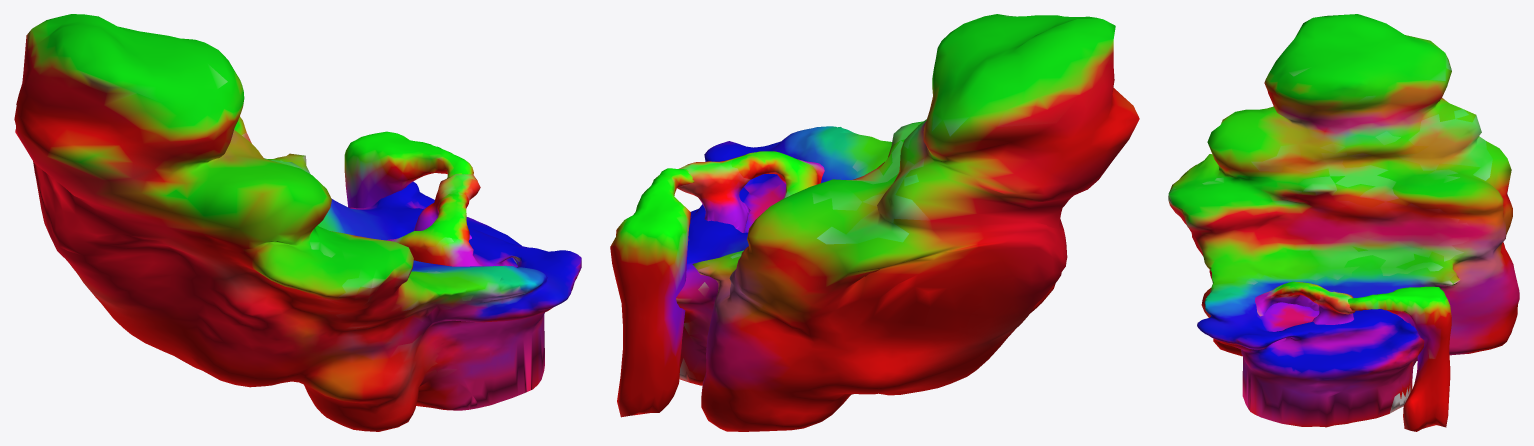
File: fblmeshes.fbx
3 renders of one model, left to right at view 1: azimuth 30°, elevation 25°; view 2: azimuth 150°, elevation 25°; view 3: azimuth 270°, elevation 25°, orthographic. The views are drawn at different scales.
Parts seen in each view (by area): view 1: Cube, Cube.001, Cube.002; view 2: Cube, Cube.001, Cube.002; view 3: Cube, Cube.001, Cube.002.
Boxes of the visible parts, box(x1,y1,x2,y2) form: Cube: box(14, 14, 581, 431); Cube.001: box(344, 131, 473, 208); Cube.002: box(386, 174, 482, 266); Cube: box(676, 14, 1139, 431); Cube.001: box(610, 168, 694, 417); Cube.002: box(677, 151, 824, 232); Cube: box(1168, 14, 1519, 427); Cube.001: box(1348, 286, 1451, 431); Cube.002: box(1255, 281, 1355, 324).
Size of the model in its own units: 144 by 120 by 132.
